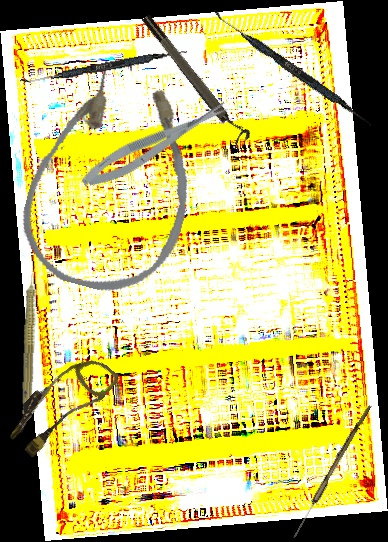Cannula: (8, 50, 219, 307), (1, 341, 121, 467)
Fixation Ring: (139, 8, 253, 149)
Handpiece: (19, 263, 43, 415)
Micro Scissor: (76, 95, 234, 195)
Spatula Surgical: (208, 9, 376, 128), (19, 44, 188, 90)
Surgical Spoon: (291, 402, 372, 541)
